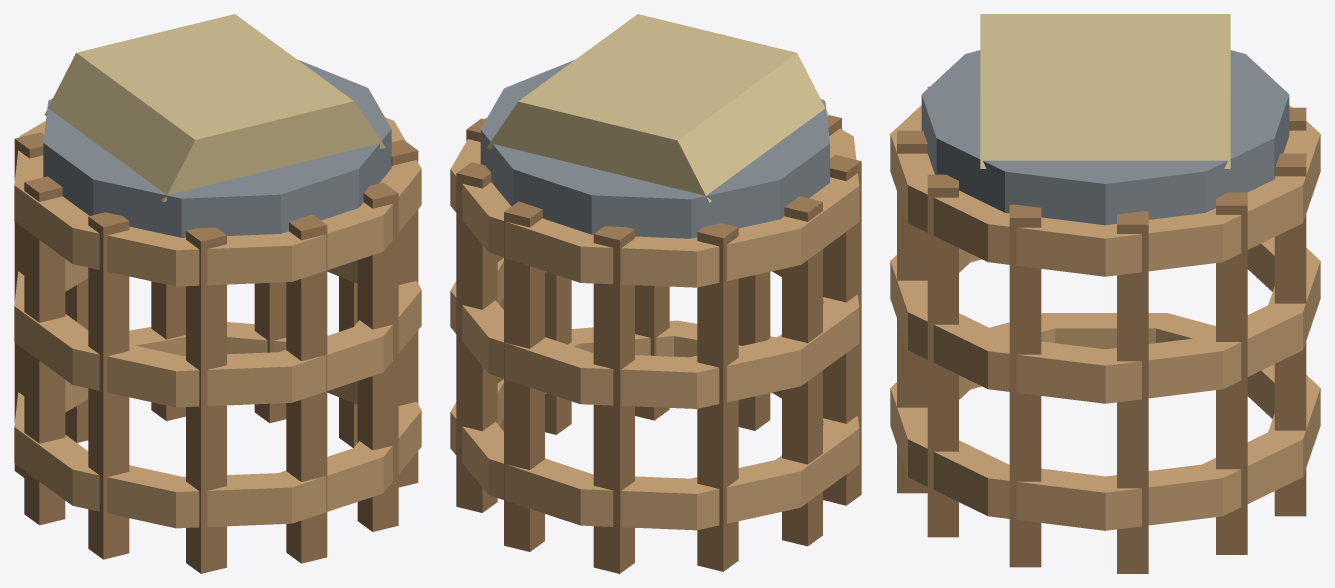
The model's file is gabion-basket.glb.
3 renders of one model, left to right at view 1: azimuth 30°, elevation 25°; view 2: azimuth 150°, elevation 25°; view 3: azimuth 270°, elevation 25°, orthographic. The views are drawn at different scales.
Visible parts, largest first — view 1: gabion-basket; view 2: gabion-basket; view 3: gabion-basket.
Part boxes in pixels (bbox=[...]): gabion-basket: bbox=[14, 14, 421, 573]; gabion-basket: bbox=[450, 14, 861, 573]; gabion-basket: bbox=[890, 14, 1320, 573].
Size of the model in its own units: 1.21 by 1.36 by 1.23.
